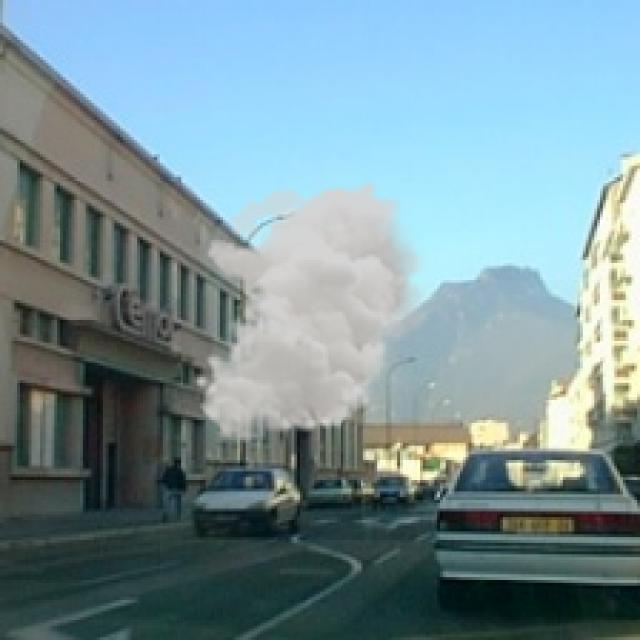Smoke: (192, 180, 434, 443)
